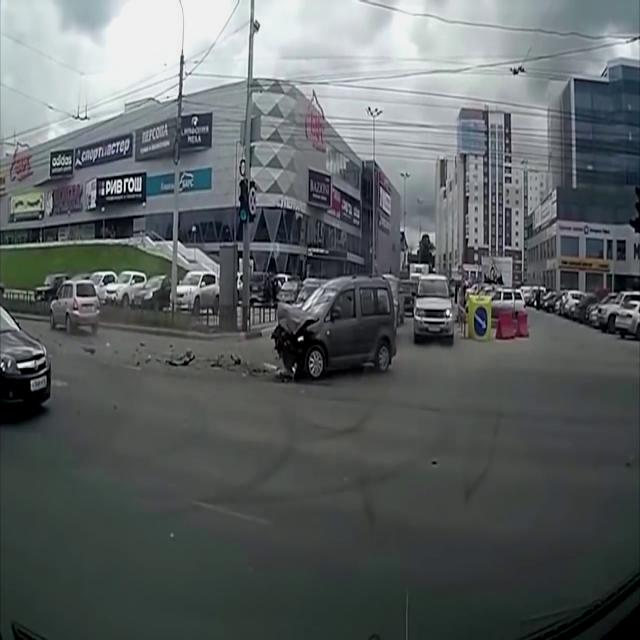accident: (264, 278, 396, 382)
non-accident: (47, 272, 223, 328), (518, 284, 640, 338)
